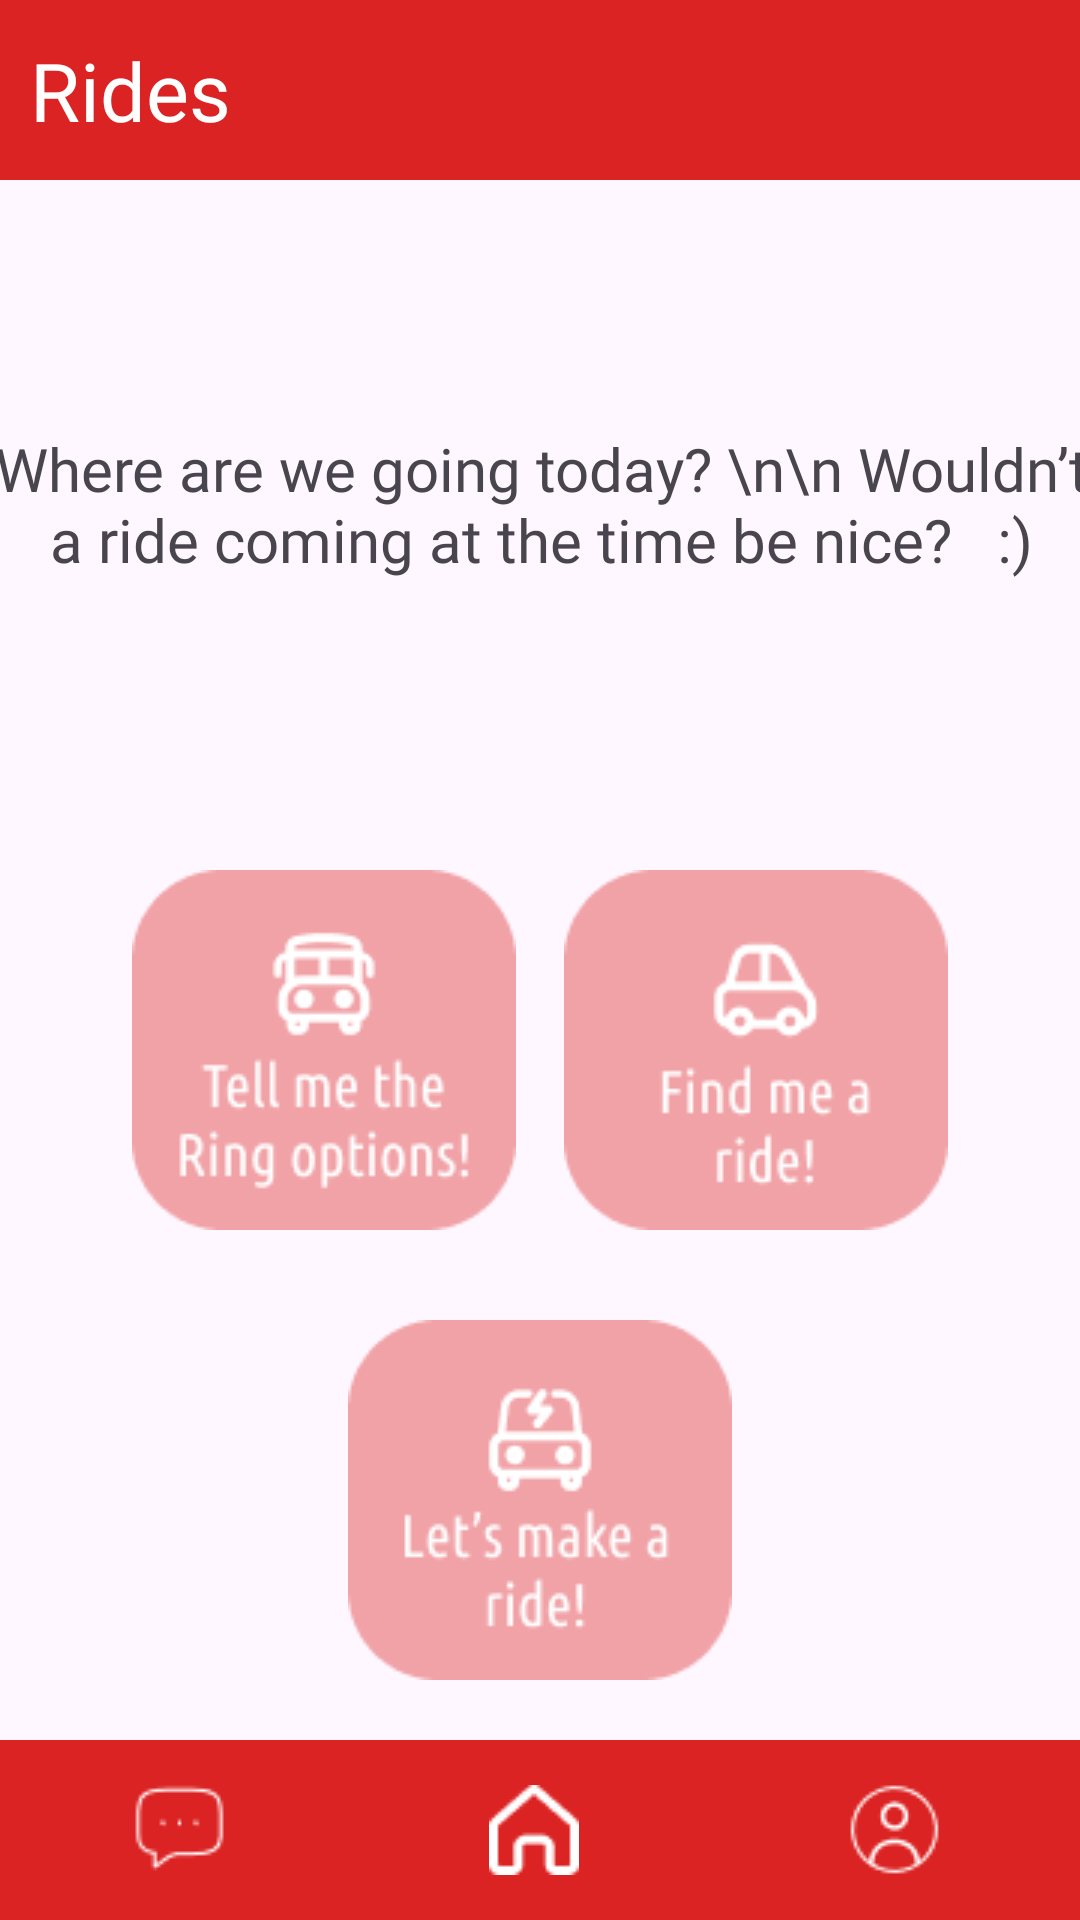

Point at icon controls on the screen. Image size 1080w x 1920h, points as point (x, y).
chat: point (179, 1828)
profile: point (894, 1829)
